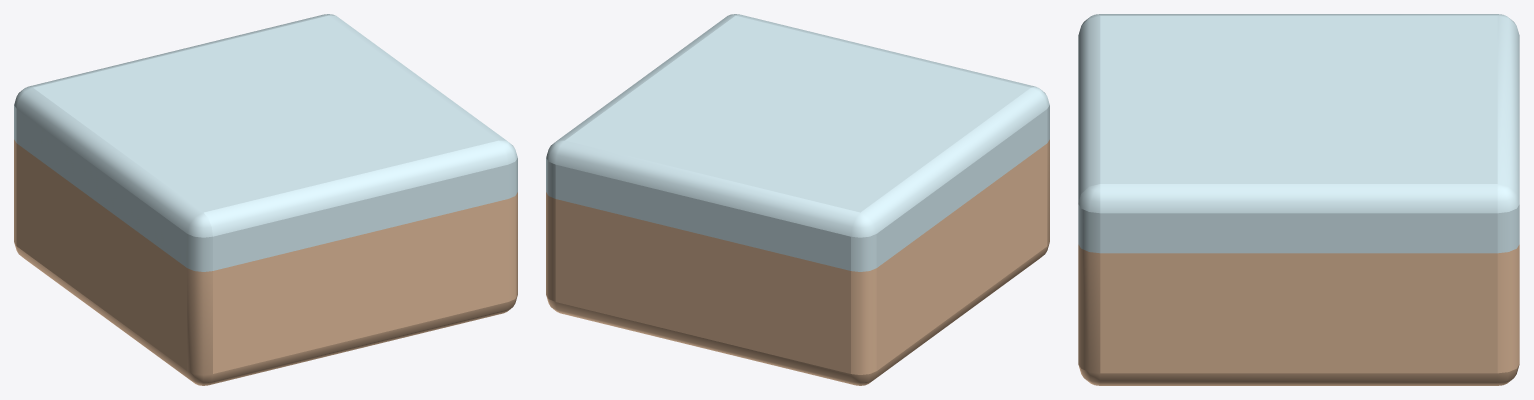
Rendered from blockSnowRoundedLarge.glb.
3 views of the same model, side by side, from view 1: azimuth 30°, elevation 25°; view 2: azimuth 150°, elevation 25°; view 3: azimuth 270°, elevation 25° (orthographic). The views are drawn at different scales.
Visible parts, largest first — view 1: blockSnowRoundedLarge; view 2: blockSnowRoundedLarge; view 3: blockSnowRoundedLarge.
Part boxes in pixels (<box>): blockSnowRoundedLarge: <box>14,14,517,385</box>; blockSnowRoundedLarge: <box>546,14,1049,385</box>; blockSnowRoundedLarge: <box>1078,14,1519,385</box>.
Bounding box in the file's own units: 2 × 1 × 2.
